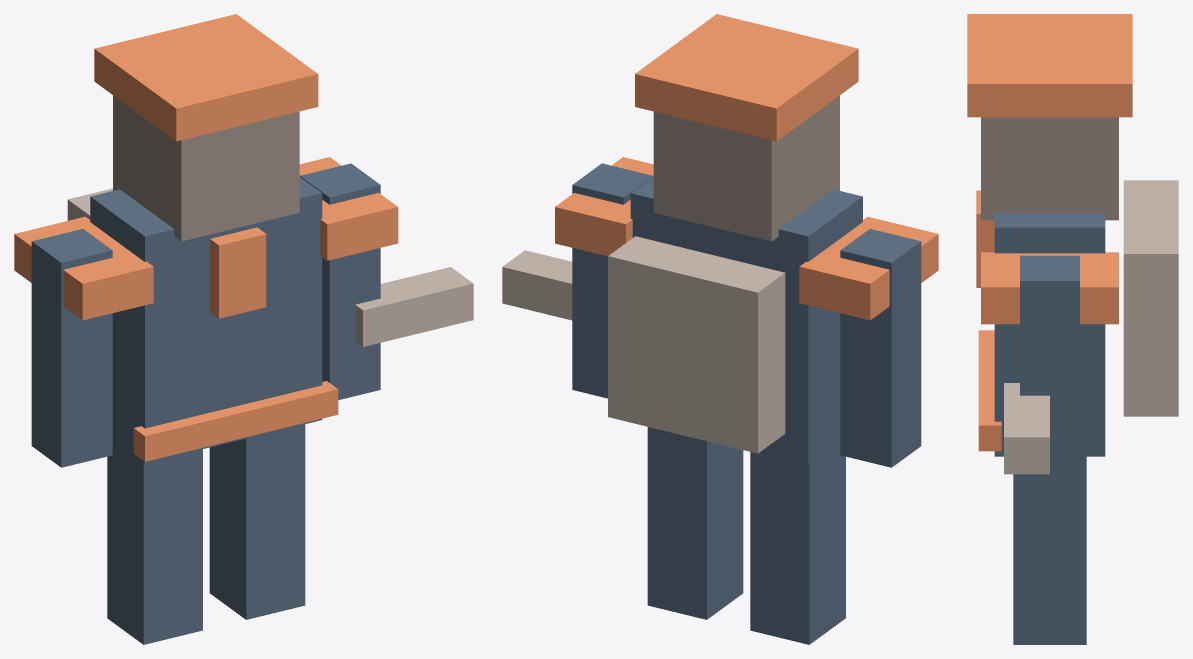
The model's file is 02_ilyra_tideforged_pilgrim_at_customs.glb.
3 views of the same model, side by side, from view 1: azimuth 30°, elevation 25°; view 2: azimuth 150°, elevation 25°; view 3: azimuth 270°, elevation 25° (orthographic).
Parts seen in each view (by area): view 1: Ilyra Tideforged, Pilgrim at Customs; view 2: Ilyra Tideforged, Pilgrim at Customs; view 3: Ilyra Tideforged, Pilgrim at Customs.
Boxes of the visible parts, x1,y1,x2,y2 form: Ilyra Tideforged, Pilgrim at Customs: (14,14,473,644); Ilyra Tideforged, Pilgrim at Customs: (502,14,938,644); Ilyra Tideforged, Pilgrim at Customs: (967,14,1178,644).
Size of the model in its own units: 1.12 by 1.46 by 0.502.
